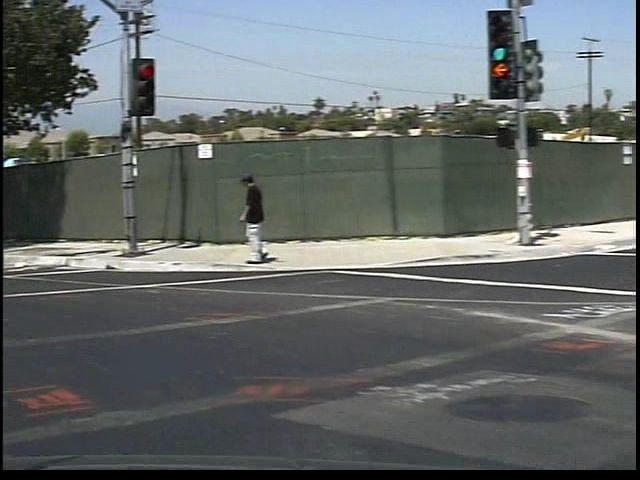person: (223, 172, 272, 283)
